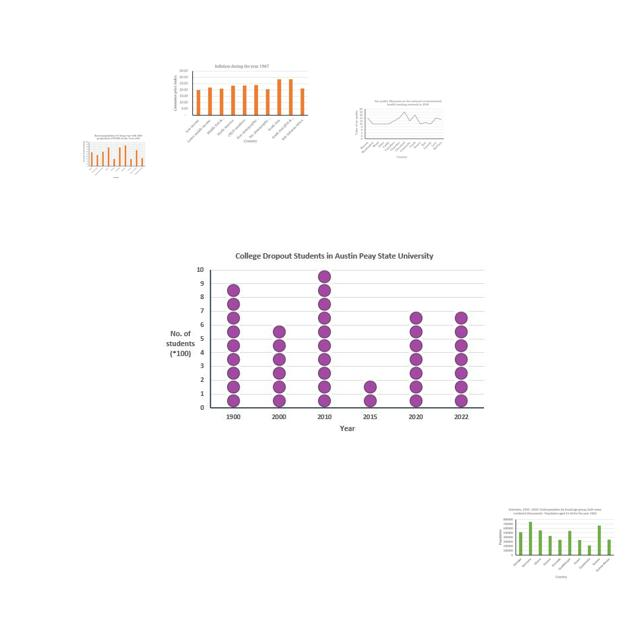Graph: (158, 246, 490, 441), (173, 62, 310, 144), (494, 506, 616, 579), (353, 98, 446, 160), (82, 134, 146, 179)
